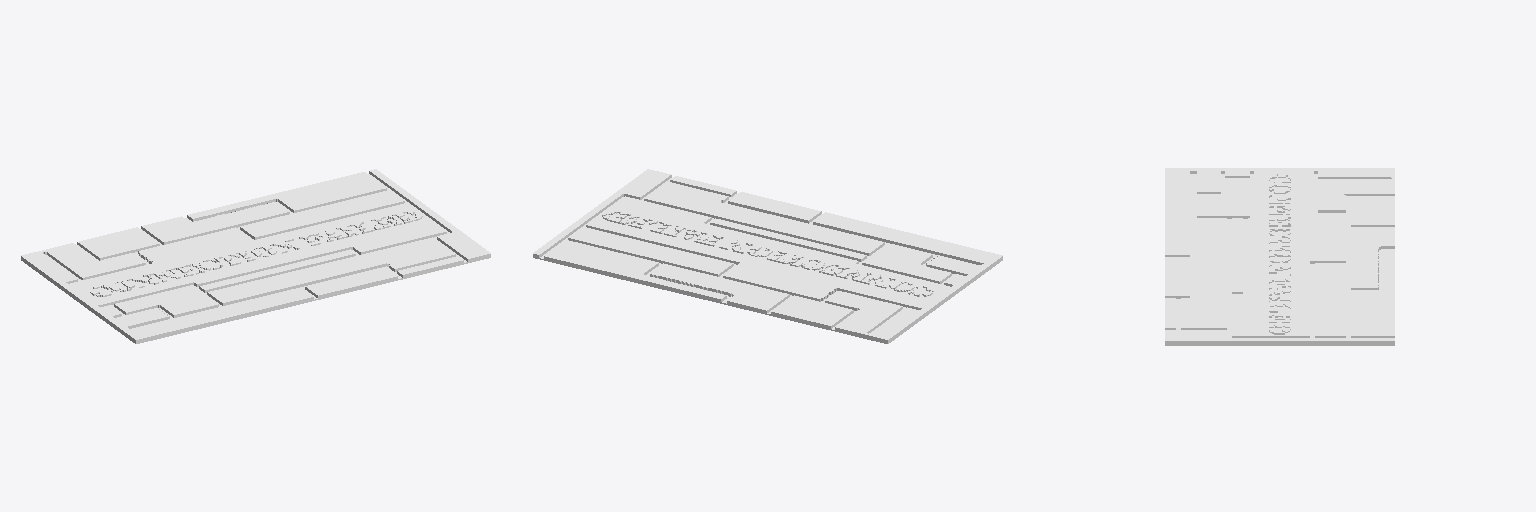
The model's file is ConnectionFailed.obj.
3 renders of one model, left to right at view 1: azimuth 30°, elevation 25°; view 2: azimuth 150°, elevation 25°; view 3: azimuth 270°, elevation 25°, orthographic.
Visible parts, largest first — view 1: ConnectionFailed; view 2: ConnectionFailed; view 3: ConnectionFailed.
Boxes of the visible parts, x1,y1,x2,y2 form: ConnectionFailed: [21, 169, 490, 343]; ConnectionFailed: [533, 169, 1002, 343]; ConnectionFailed: [1165, 168, 1394, 345].
Bounding box in the file's own units: 25.6 × 0.4 × 14.4.